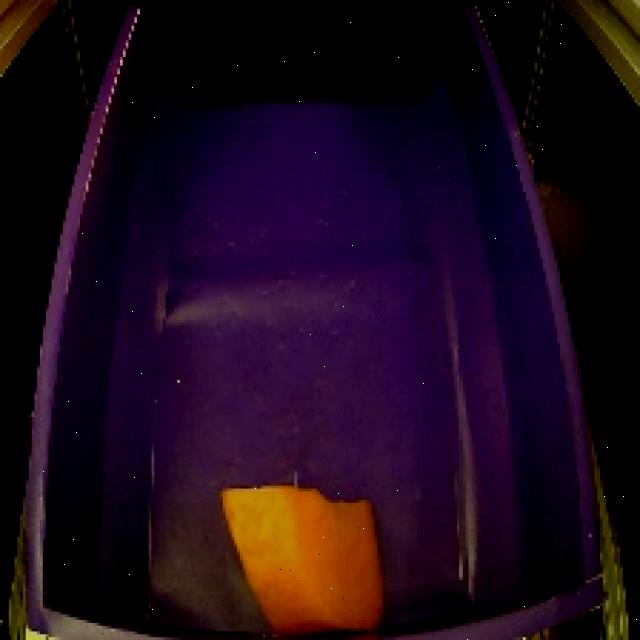carrots: (215, 482, 402, 640)
